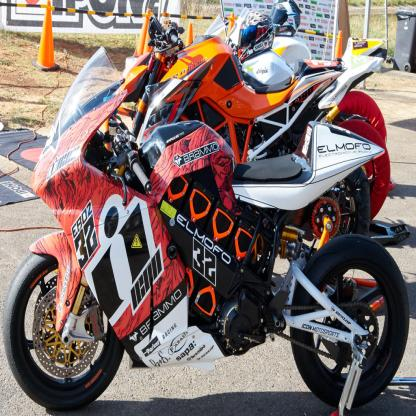Helmet: (236, 8, 275, 63), (267, 0, 301, 39), (224, 8, 256, 49)
